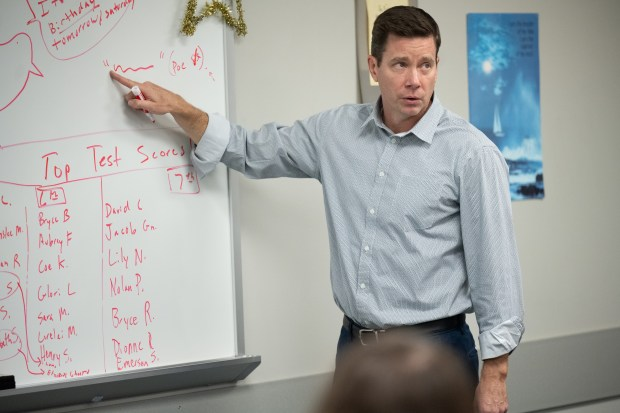pointing_gesture: (102, 69, 192, 117)
